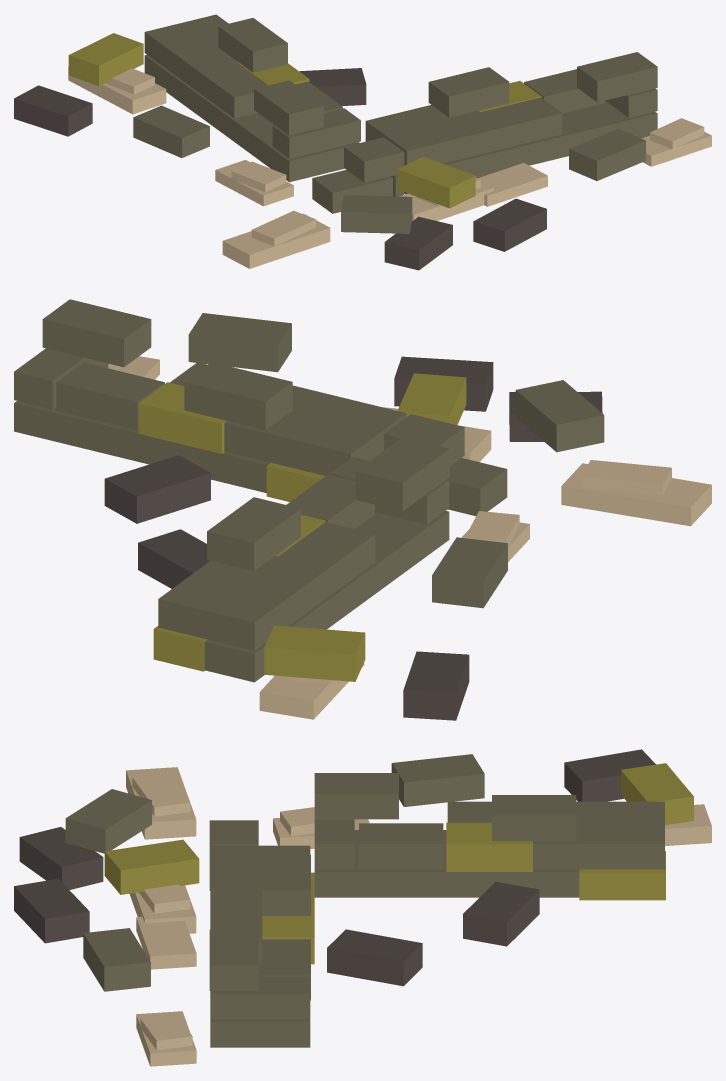
The model's file is SM_SacosEsquina_v2_Irregular_e2_MuyDanado_LOD1.fbx.
3 views of the same model, one above another, from view 1: azimuth 30°, elevation 25°; view 2: azimuth 150°, elevation 25°; view 3: azimuth 270°, elevation 25° (orthographic). The views are drawn at different scales.
Visible parts, largest first — view 1: SM_sacos_piezas_v10_LOD1; view 2: SM_sacos_piezas_v10_LOD1; view 3: SM_sacos_piezas_v10_LOD1.
Boxes of the visible parts, x1=… form: SM_sacos_piezas_v10_LOD1: x1=14, y1=14, x2=711, y2=270; SM_sacos_piezas_v10_LOD1: x1=14, y1=299, x2=711, y2=720; SM_sacos_piezas_v10_LOD1: x1=14, y1=749, x2=711, y2=1066.
Bounding box in the file's own units: 6.64 × 0.885 × 6.69.
